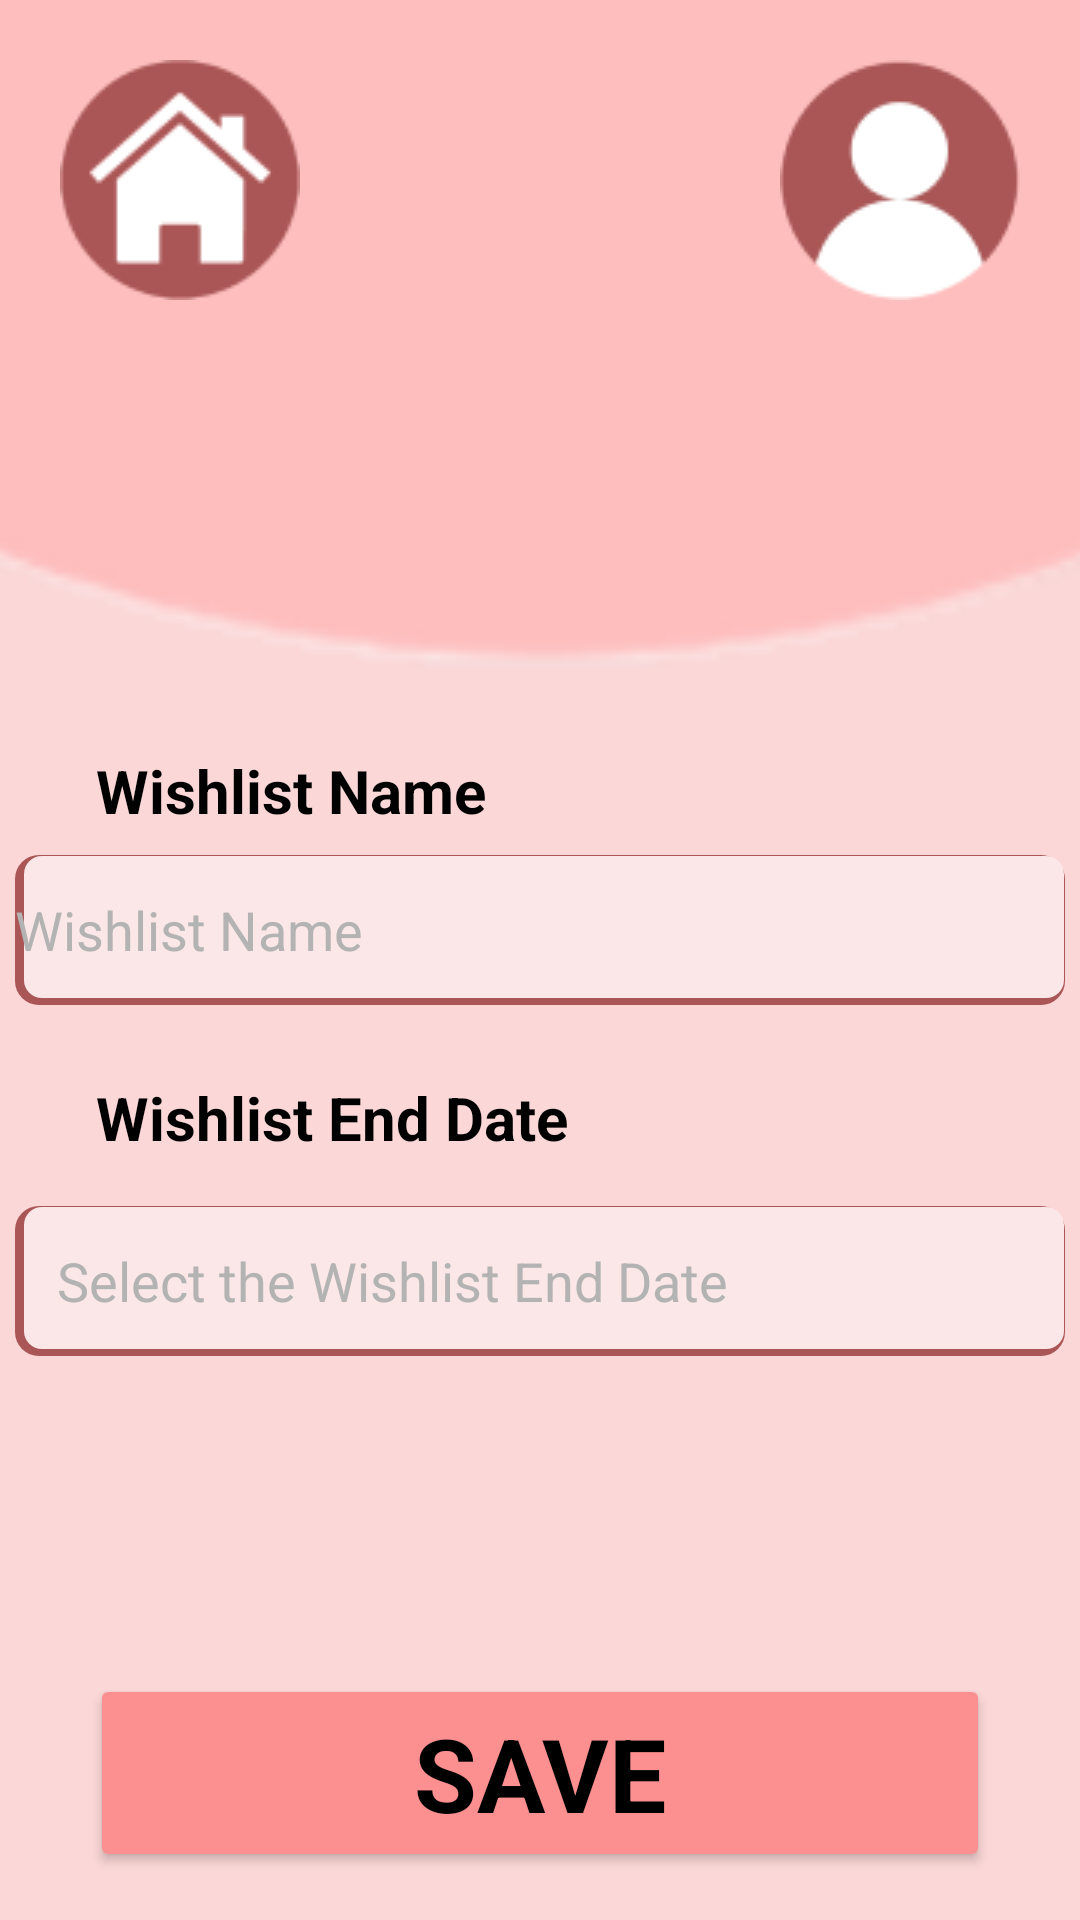

Locate icon controls on the screen. Image size 1080 × 1920, boxes as (x1, y1, x2, y2).
home: (60, 60, 300, 300)
usuario: (780, 62, 1018, 300)
